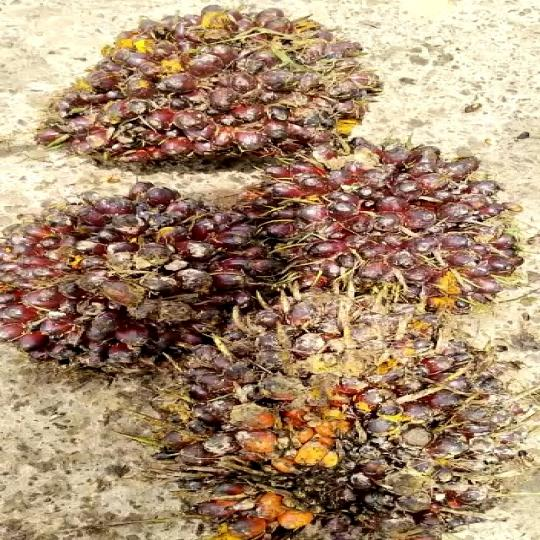kurang masak: (165, 277, 521, 540), (38, 2, 379, 167), (0, 178, 266, 378), (270, 140, 540, 321)
